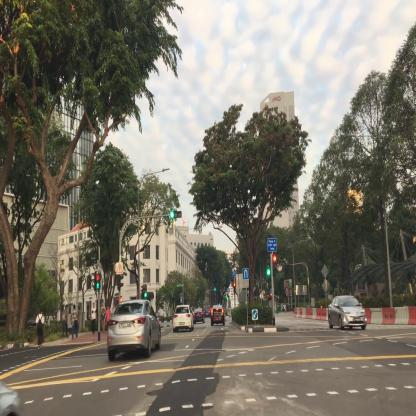green_traffic_light: (266, 256, 271, 277), (170, 211, 182, 217), (144, 286, 147, 296)
